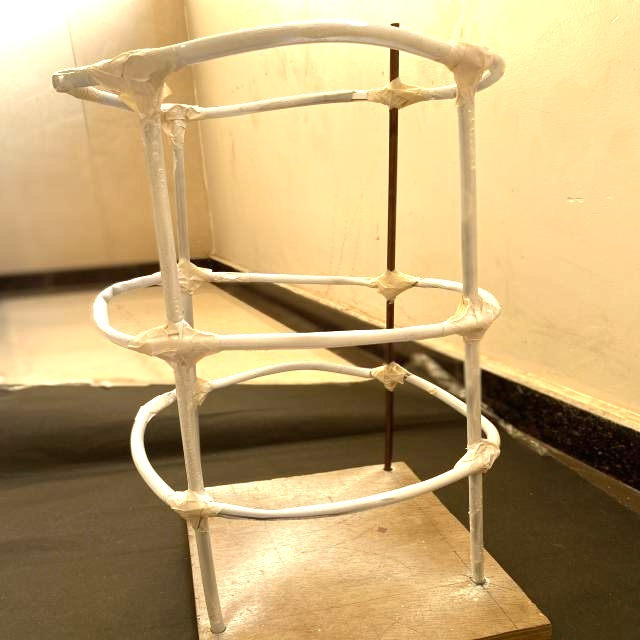silo: (59, 21, 542, 636)
